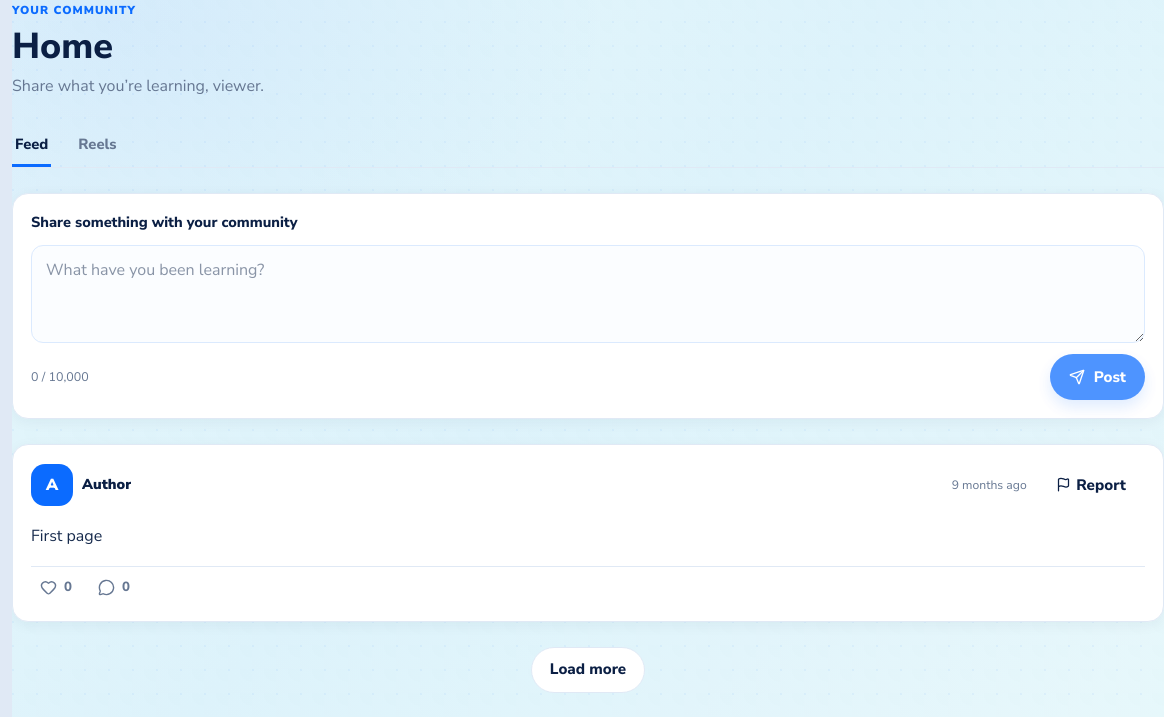
Test: HomePage feed pagination › requests the next cursor page when Load more is clicked
Check: the text "First page" is shown, box [31,525,102,547]
Click the button "Load more" at (588, 670), box [531,646,645,692]
(page scrolled)
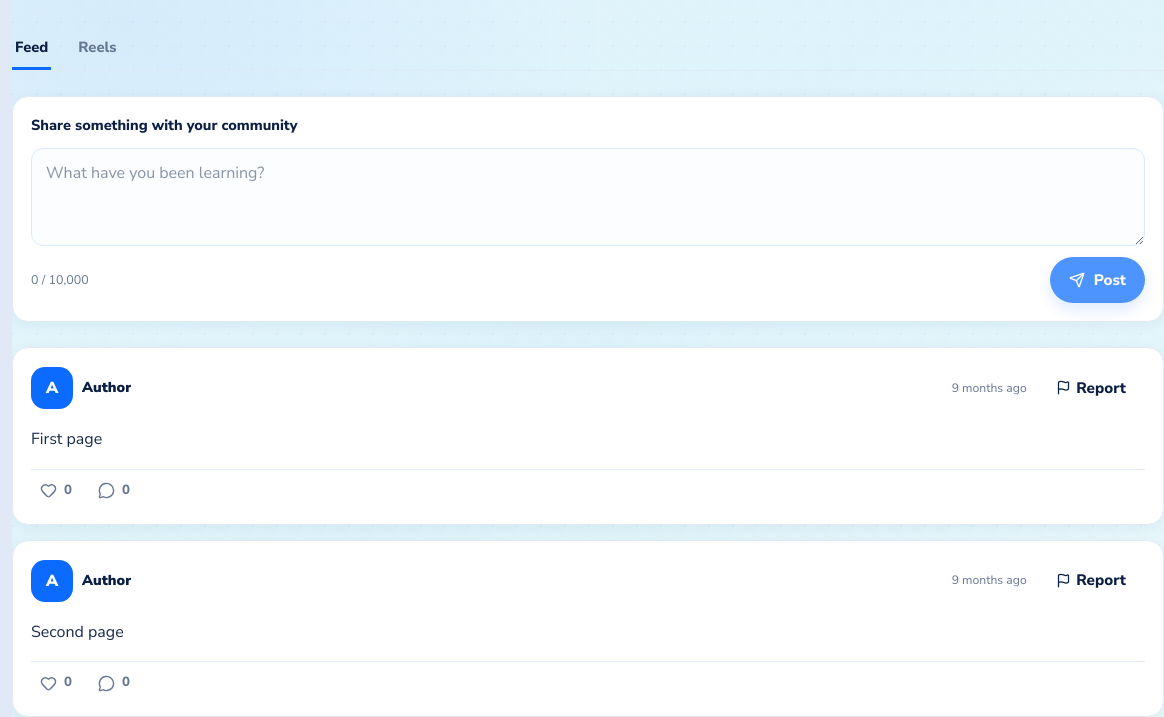
Check: the text "Second page" is shown, box [31,620,124,642]
